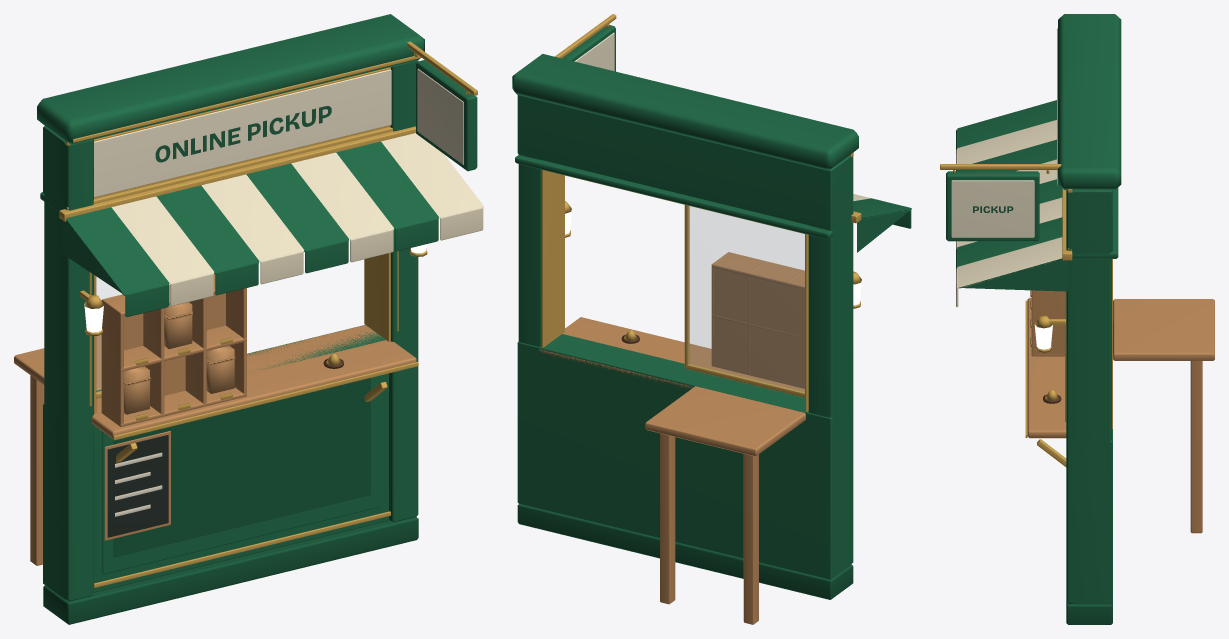
Rendered from pickup_window_tier4.glb.
The picture shows the model from 3 angles, left to right: view 1: azimuth 30°, elevation 25°; view 2: azimuth 150°, elevation 25°; view 3: azimuth 270°, elevation 25°; orthographic projection. The views are drawn at different scales.
Visible parts, largest first — view 1: KickInset, Pilaster-1, Cap, SignPanel, KickWall, Plinth, Pilaster1, Ledge, KickPanel, MenuCard, AwningStripe0, AwningStripe6 (+39 smaller); view 2: KickWall, SignBand, Pane, Cap, Pilaster-1, RackBack, InnerShelf, Plinth, Pilaster1, Bead0.75, Ledge, Header (+10 smaller); view 3: Pilaster1, Cap, KickWall, InnerShelf, BladePanel, Ledge, AwningStripe7, ShelfLeg-0.20, BladeFrame, AwningStripe0, AwningStripe1, AwningCheek1 (+11 smaller).
Boxes of the visible parts, box(x1,y1,x2,y2) form: KickInset: box(113, 378, 370, 557); Pilaster-1: box(44, 130, 93, 601); Cap: box(37, 14, 424, 144); SignPanel: box(94, 69, 391, 197); KickWall: box(43, 325, 389, 599); Plinth: box(43, 517, 418, 624); Pilaster1: box(389, 60, 418, 522); Ledge: box(91, 325, 416, 438); KickPanel: box(102, 375, 379, 574); MenuCard: box(107, 435, 168, 537); AwningStripe0: box(66, 207, 169, 295); AwningStripe6: box(336, 141, 438, 230); KickWall: box(517, 334, 850, 579); SignBand: box(517, 95, 850, 230); Pane: box(688, 206, 804, 392); Cap: box(512, 54, 858, 170); Pilaster-1: box(808, 155, 853, 563); RackBack: box(711, 263, 804, 388); InnerShelf: box(645, 386, 805, 456); Plinth: box(517, 504, 853, 599); Pilaster1: box(518, 154, 541, 346); Bead0.75: box(541, 169, 564, 347); Ledge: box(539, 317, 804, 391); Header: box(515, 155, 851, 239); Pilaster1: box(1066, 190, 1111, 604); Cap: box(1058, 14, 1121, 189); KickWall: box(1073, 429, 1112, 604); InnerShelf: box(1113, 299, 1214, 360); BladePanel: box(951, 180, 1034, 237); Ledge: box(1027, 297, 1066, 438); AwningStripe7: box(957, 237, 1062, 288); ShelfLeg-0.20: box(1190, 361, 1202, 533); BladeFrame: box(946, 171, 1039, 241); AwningStripe0: box(957, 100, 1056, 147); AwningStripe1: box(957, 120, 1056, 163); AwningCheek1: box(959, 258, 1068, 291).
Size of the model in its own units: 1.86 by 2.48 by 1.35.
